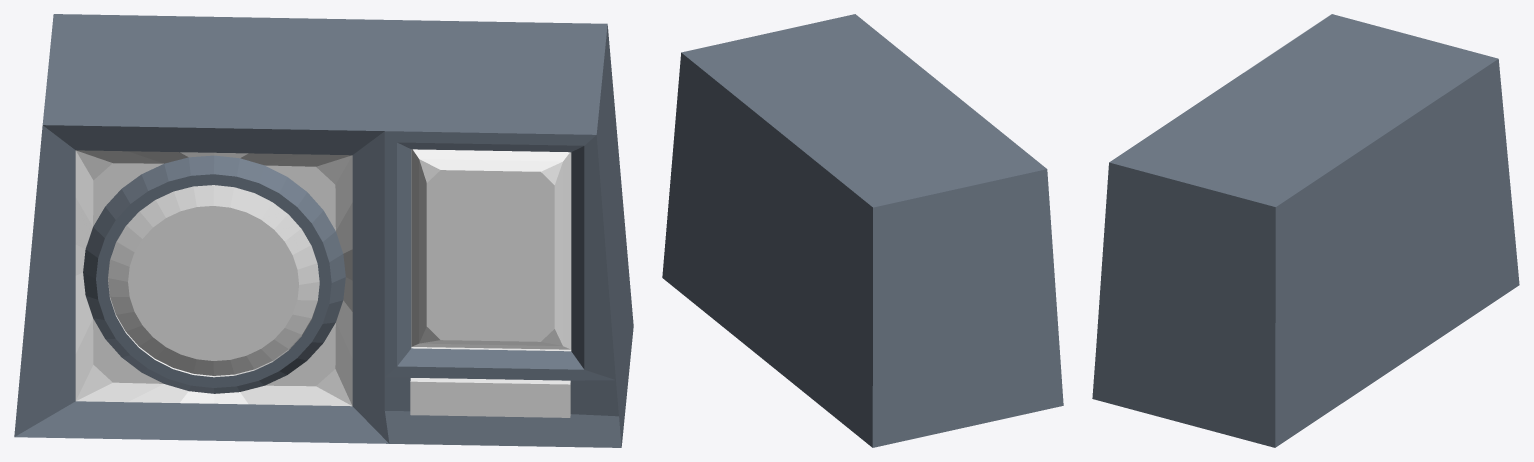
The model's file is reloj.fbx.
3 renders of one model, left to right at view 1: azimuth 30°, elevation 25°; view 2: azimuth 150°, elevation 25°; view 3: azimuth 270°, elevation 25°, orthographic. The views are drawn at different scales.
Visible parts, largest first — view 1: reloj, vidrio calendario, vidrio reloj; view 2: reloj; view 3: reloj.
Part boxes in pixels (left/top/right/bottom): reloj: left=14, top=14, right=633, bottom=447; vidrio calendario: left=411, top=149, right=571, bottom=349; vidrio reloj: left=108, top=185, right=319, bottom=375; reloj: left=662, top=14, right=1063, bottom=447; reloj: left=1092, top=14, right=1519, bottom=447.
Bounding box in the file's own units: 2503 × 1275 × 2133.
